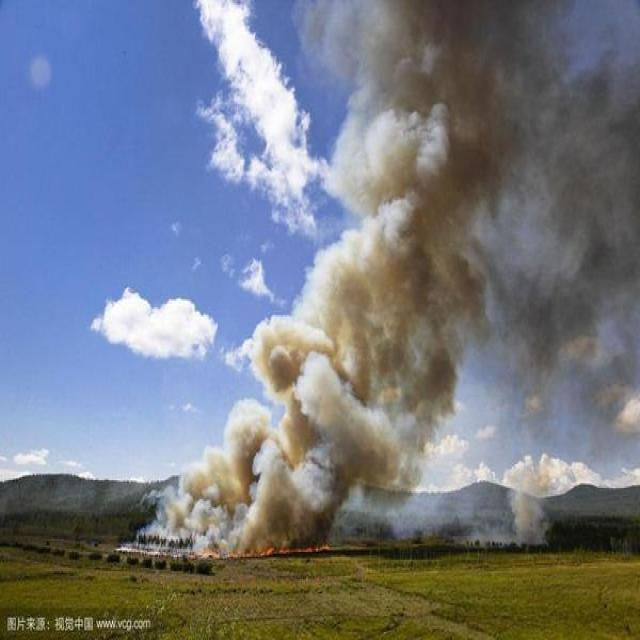Smoke: (113, 1, 640, 558)
